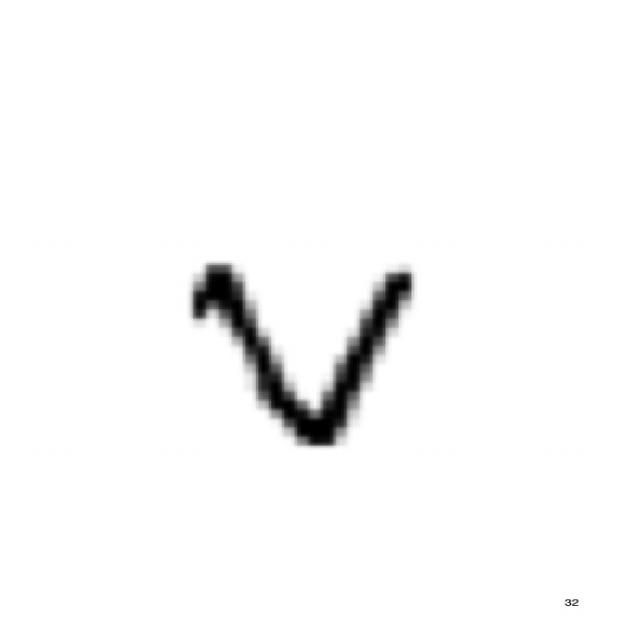7 -seven-: (180, 249, 423, 457)
